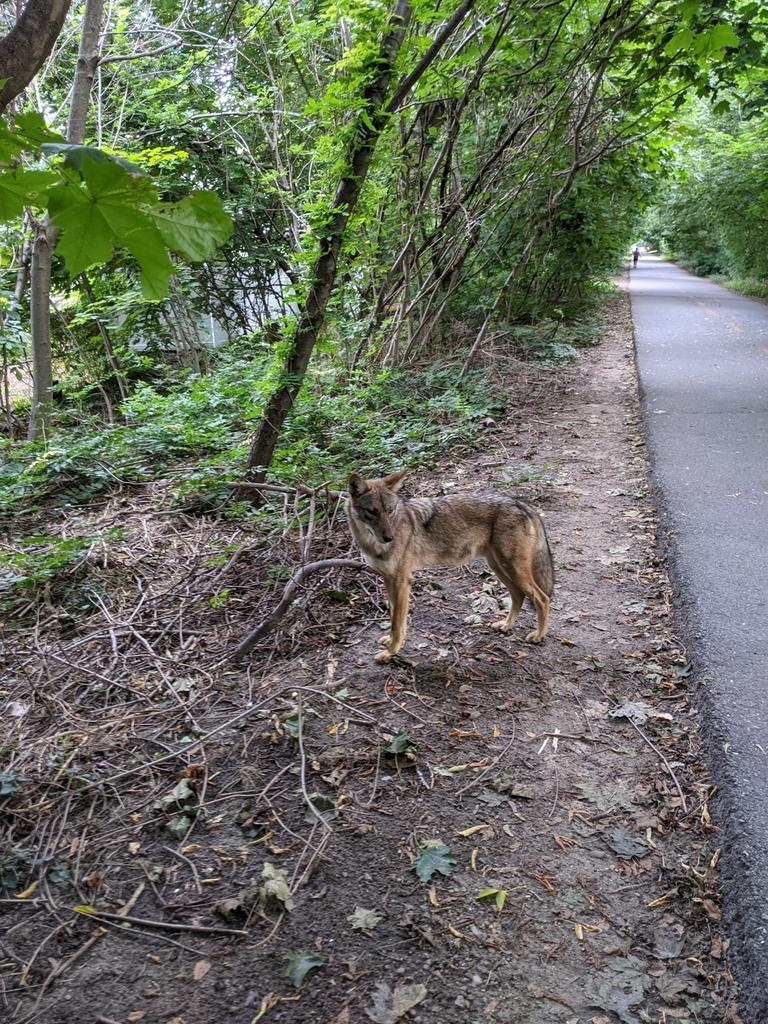Coyote: (339, 457, 567, 673)
